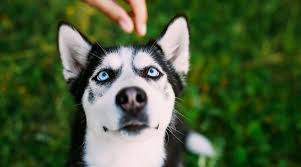Siberian Husky: (38, 10, 219, 163)
